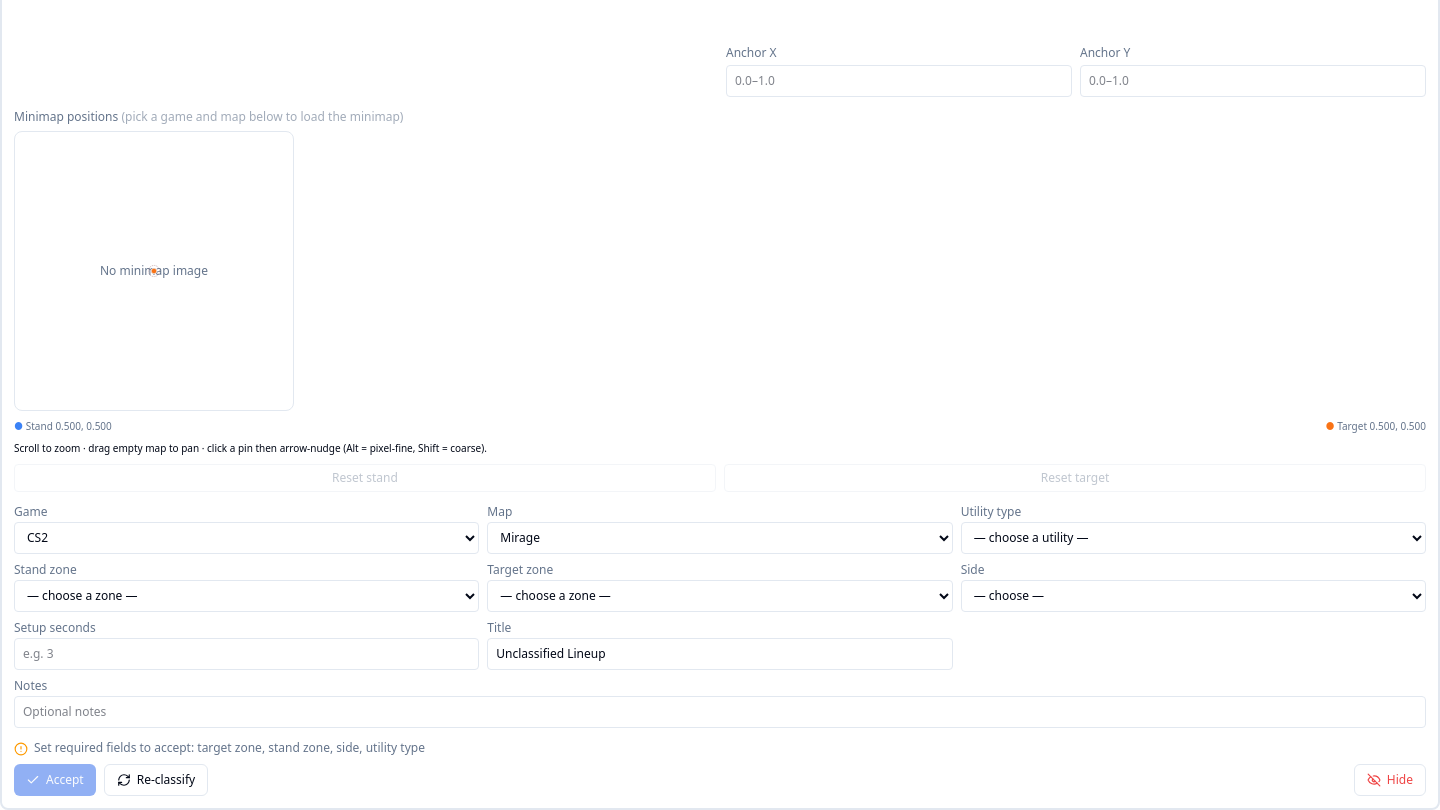
Test: ReviewCard — Accept button gating › Accept becomes enabled after manually setting all required fields
(page scrolled)
Select "A Site" in the dropdown labelled "Target zone": (720, 596) [487,580,953,612]
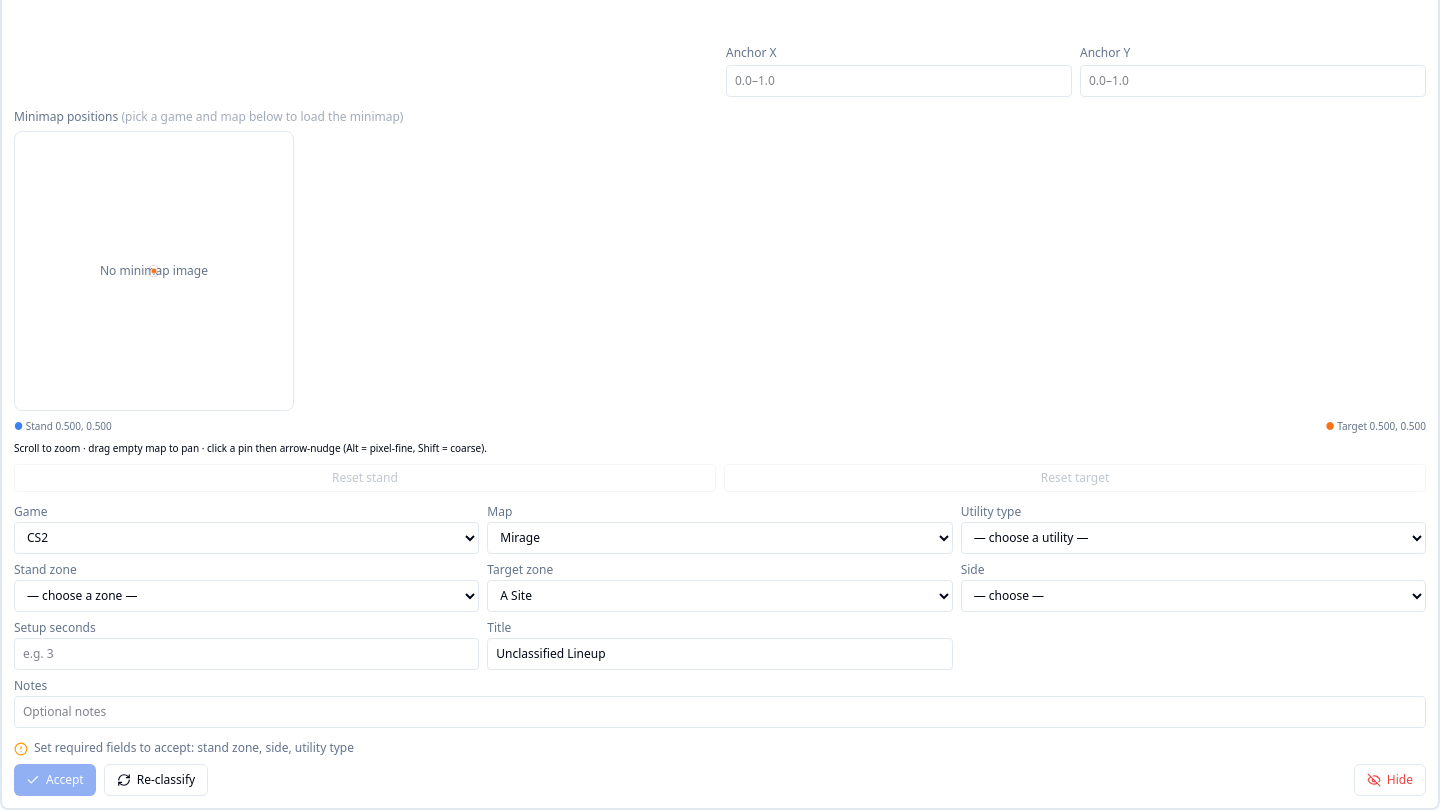
Select "B Site" in the dropdown labelled "Stand zone": (247, 596) [14,580,479,612]
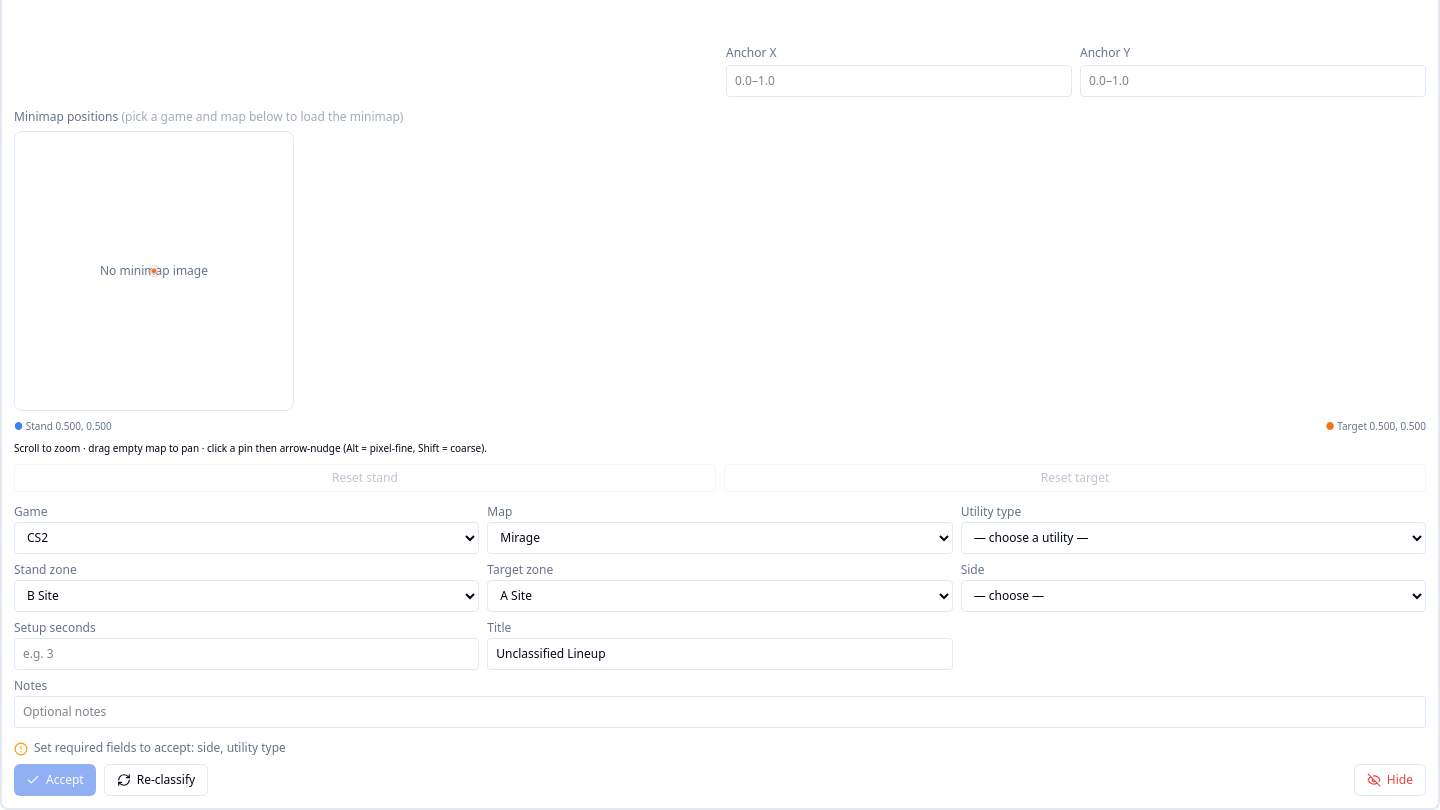
Select "Side A (Attack/T)" in the dropdown labelled "Side": (1193, 596) [961,580,1426,612]
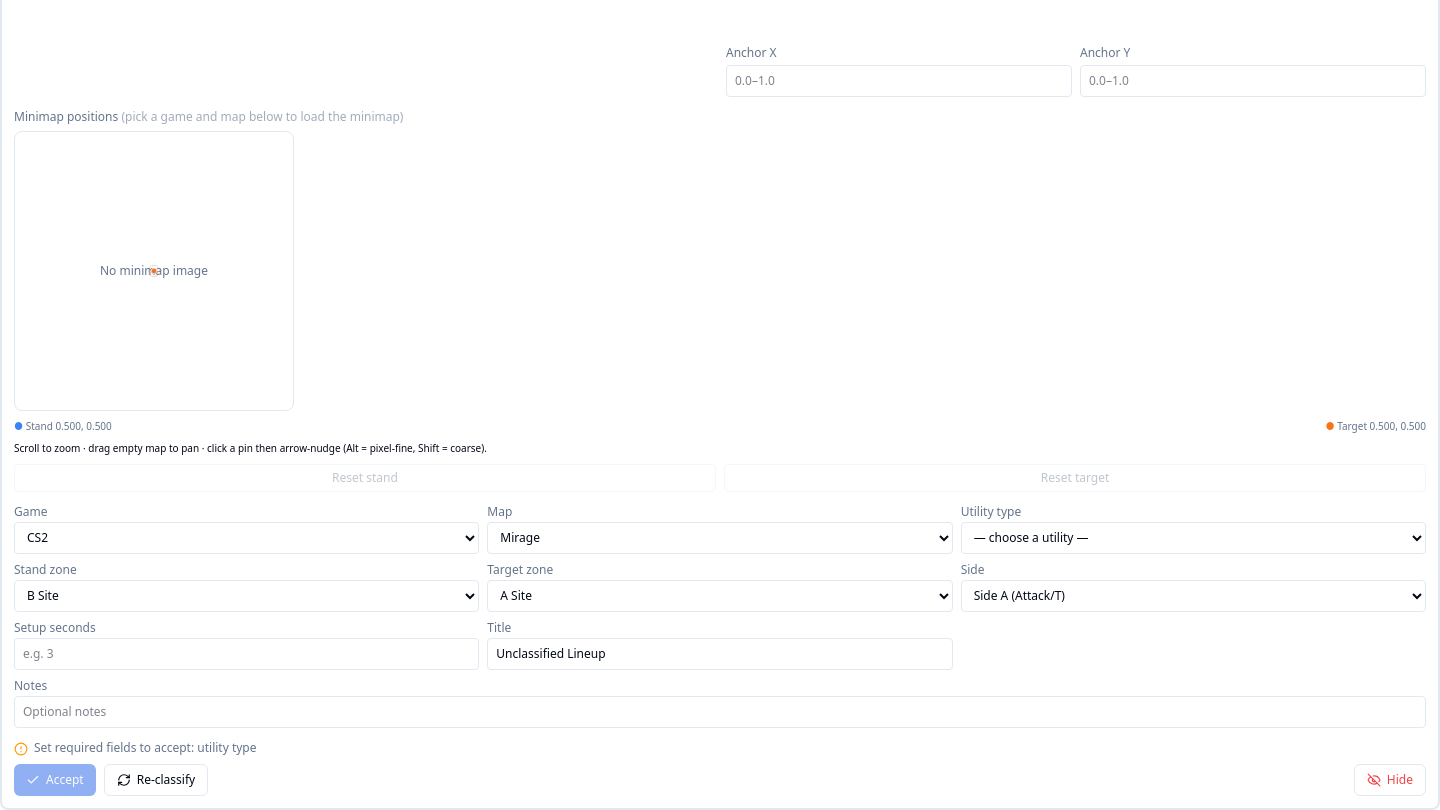
Select "Smoke" in the dropdown labelled "Utility type": (1193, 538) [961,522,1426,554]
(page scrolled)
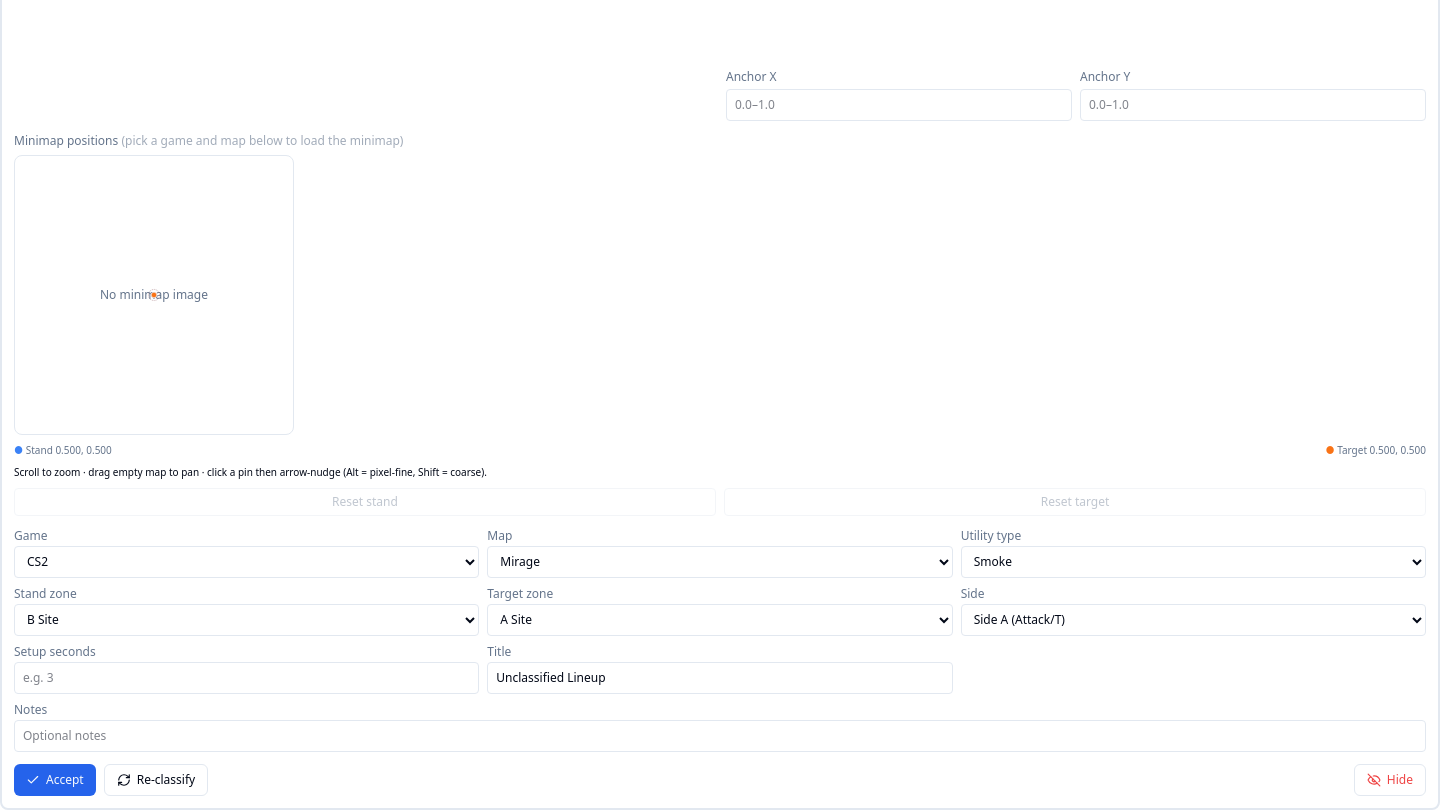
Result: the button "Accept" is enabled at [14,764,96,796]
